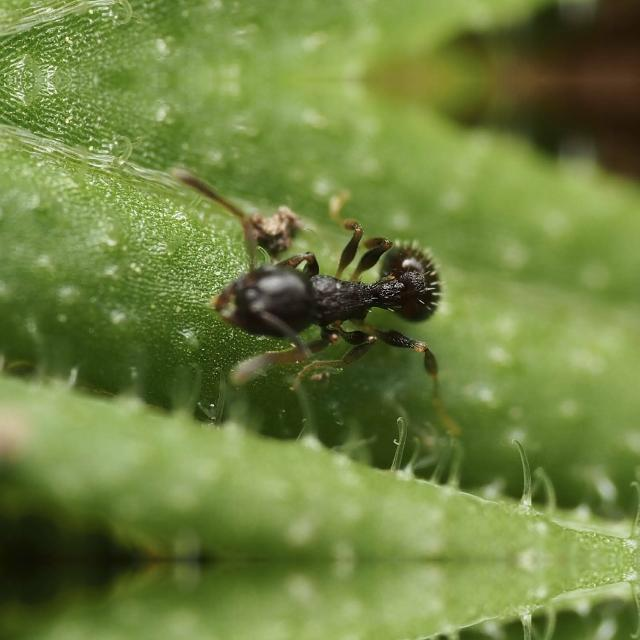Temnothorax: (208, 193, 448, 379)
